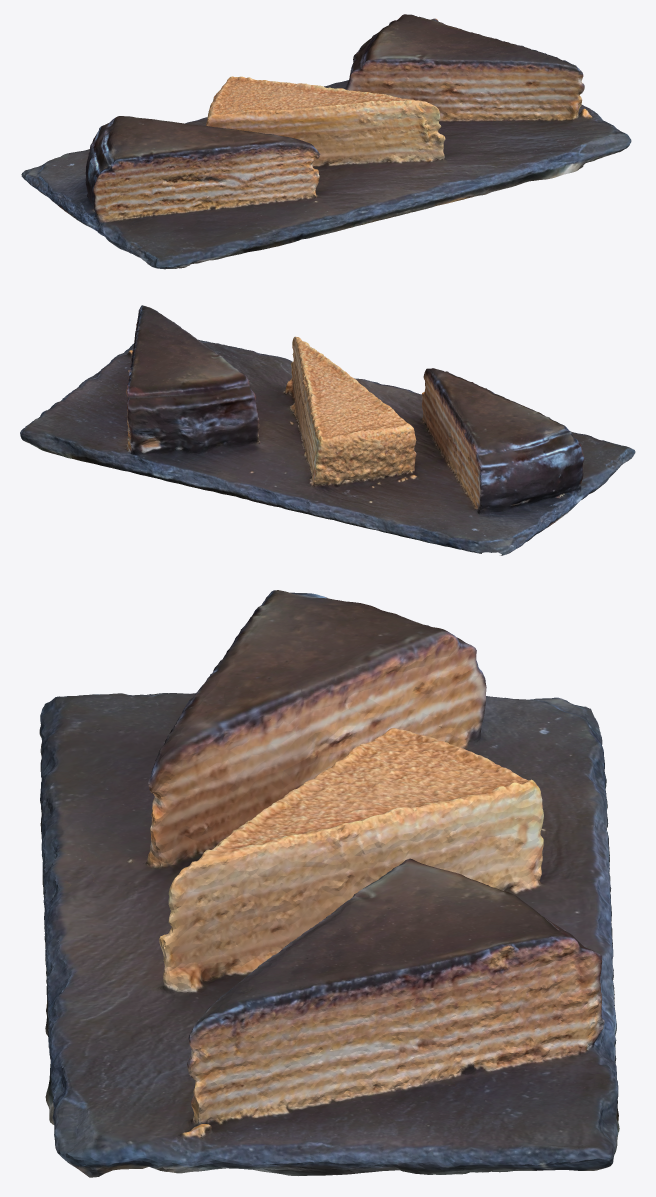
File: keik mossallasi.3.behine (1).glb
3 renders of one model, top to bottom at view 1: azimuth 30°, elevation 25°; view 2: azimuth 150°, elevation 25°; view 3: azimuth 270°, elevation 25°, orthographic. The views are drawn at different scales.
Visible parts, largest first — view 1: object 1; view 2: object 1; view 3: object 1.
Boxes of the visible parts, <box> form: object 1: <box>21,14,631,269</box>; object 1: <box>20,305,635,555</box>; object 1: <box>39,590,619,1177</box>.
Bounding box in the file's own units: 0.3099 × 0.0465 × 0.1603.
Materials: 2 (1 with a texture image).
